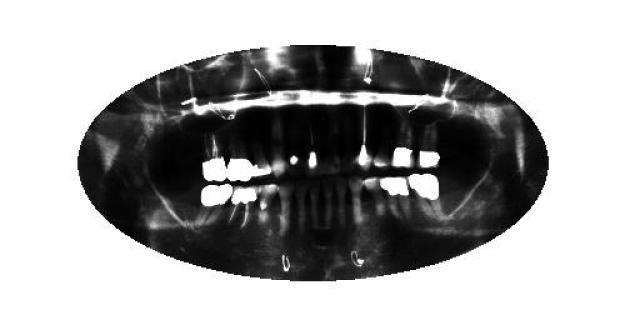Fillings: (408, 174, 443, 225), (196, 182, 232, 228), (382, 175, 412, 223), (415, 121, 441, 171), (226, 142, 255, 184), (392, 114, 413, 171), (252, 136, 272, 179)
Implant: (201, 131, 229, 181), (230, 185, 259, 233), (355, 105, 374, 171), (304, 115, 322, 179)
